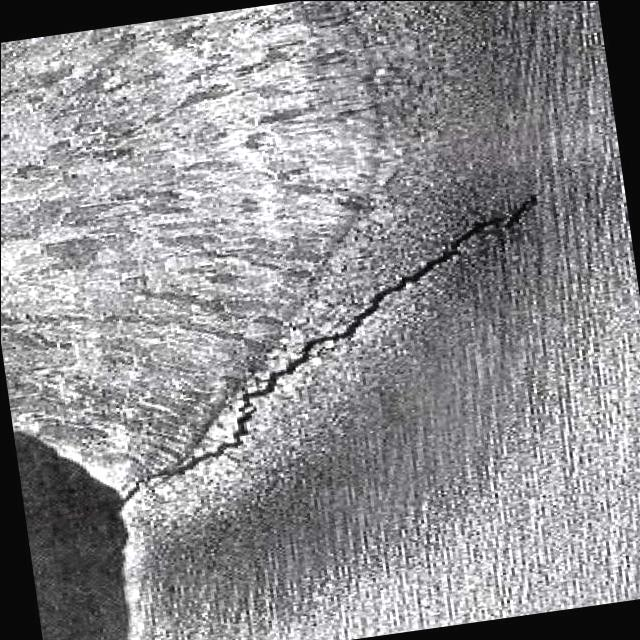defect: (117, 182, 552, 504)
